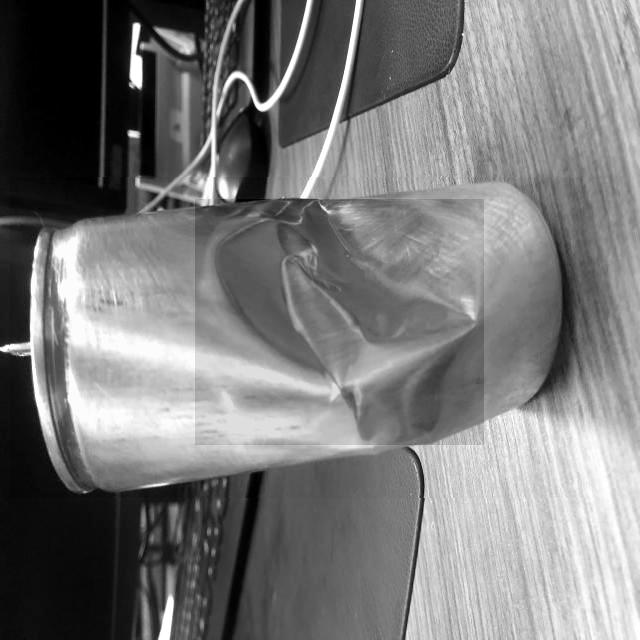deform: (195, 200, 484, 445)
metal: (11, 177, 590, 498)
